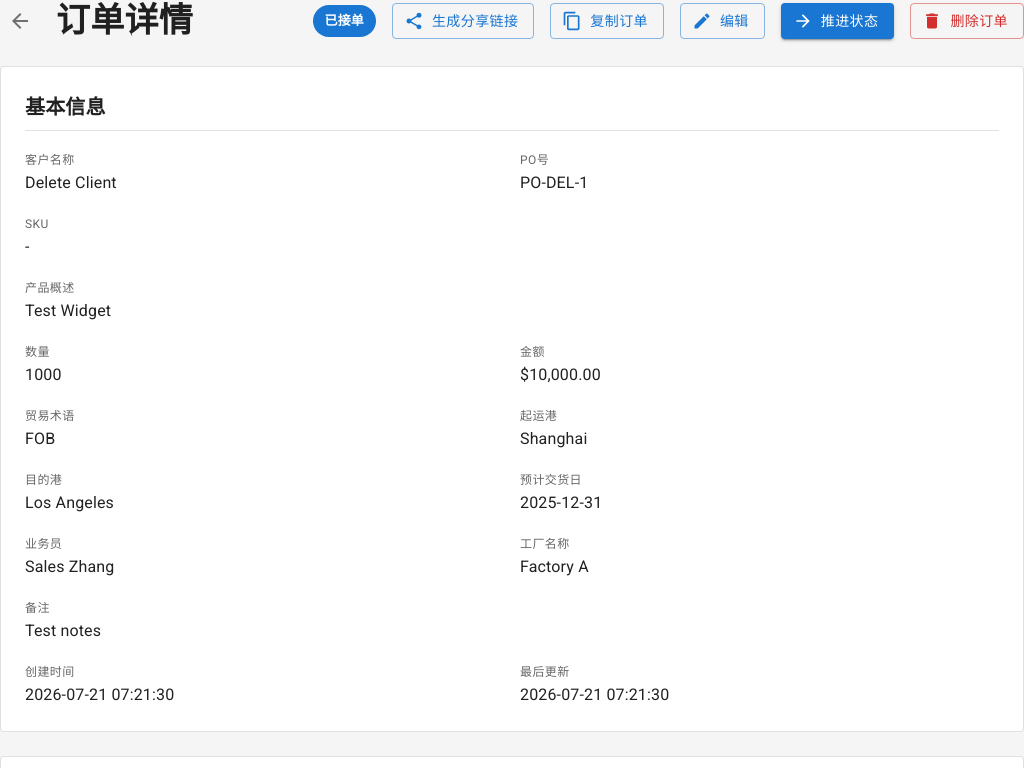
Test: OrderDetail — 删除 Dialog 按钮行为 › 确认删除按钮 color 为 error，包含 DeleteIcon
Click the button "删除订单" at (967, 21), box [910,3,1023,39]
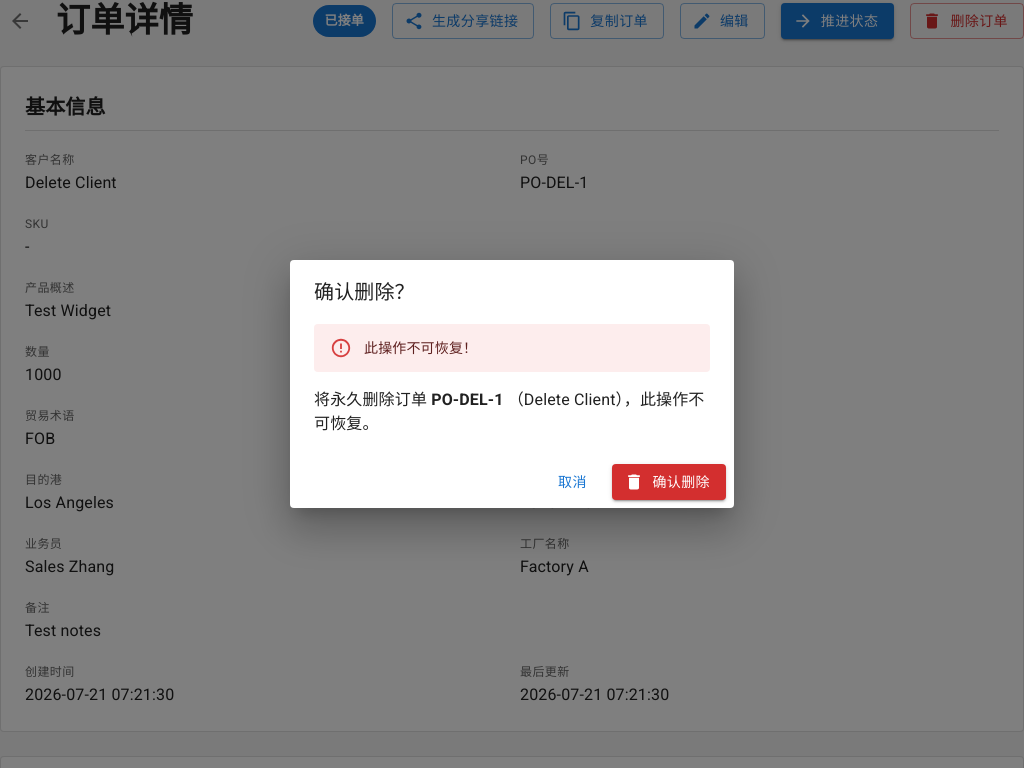
Now the button "确认删除" is shown, box [612,464,726,500]
Now the 2nd icon is shown, box [624,472,644,492]
